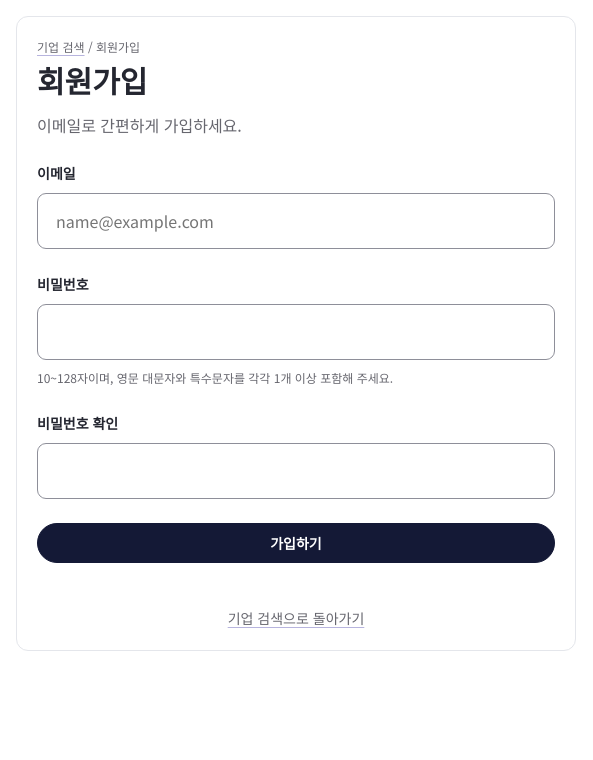
Test: 회원가입 화면 › 연결 실패는 완료로 처리하지 않고 직접 재시도할 수 있다
The width and height of the screenshot is (593, 760).
Type "Member@Example.COM" into the field labelled "이메일" at {"x": 296, "y": 221}, box [37,193,555,249]
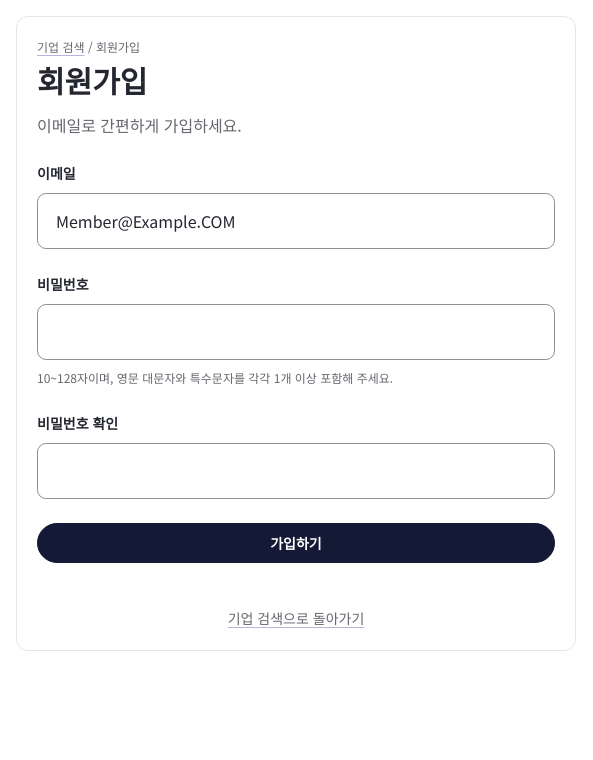
Type "Sample!password" into the password field labelled "비밀번호" at {"x": 296, "y": 332}, box [37,304,555,360]
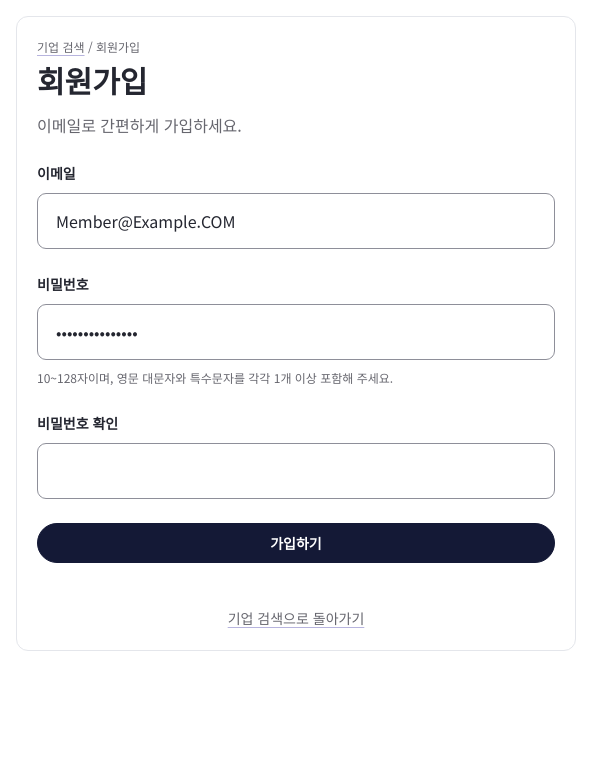
Type "Sample!password" into the password field labelled "비밀번호 확인" at {"x": 296, "y": 471}, box [37,443,555,499]
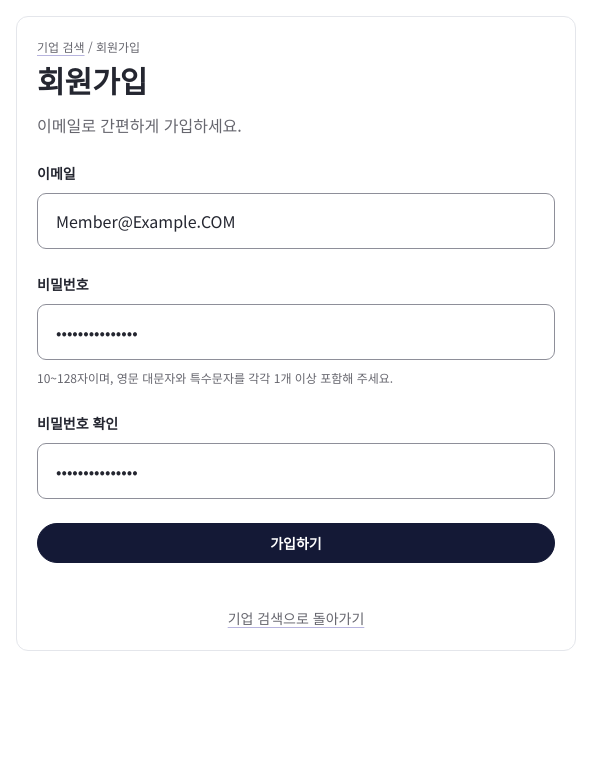
Click the button "가입하기" at {"x": 296, "y": 543}, box [37,523,555,563]
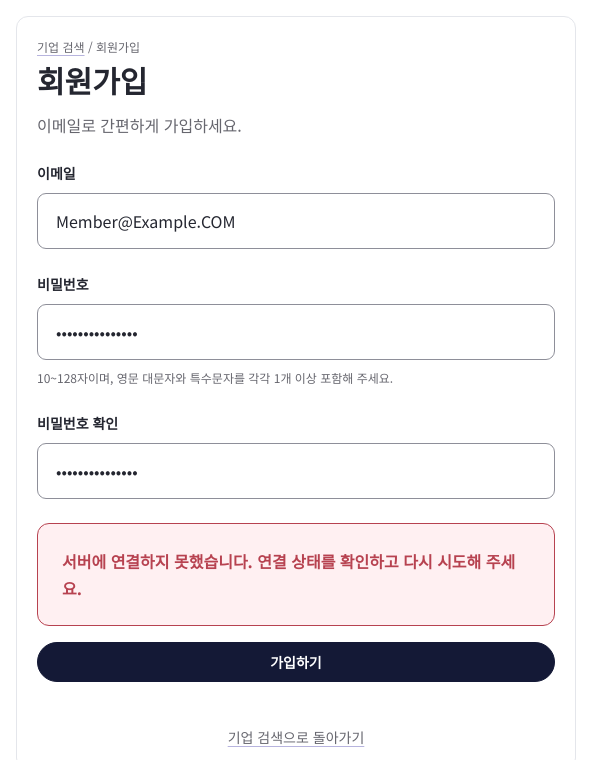
Check: the heading "회원가입이 완료됐어요" is not shown
Check: the message "서버에 연결하지 못했습니다. 연결 상태를 확인하고 다시 시도해 주세요." is shown, box [37,523,555,626]
Click the button "가입하기" at {"x": 296, "y": 662}, box [37,642,555,682]
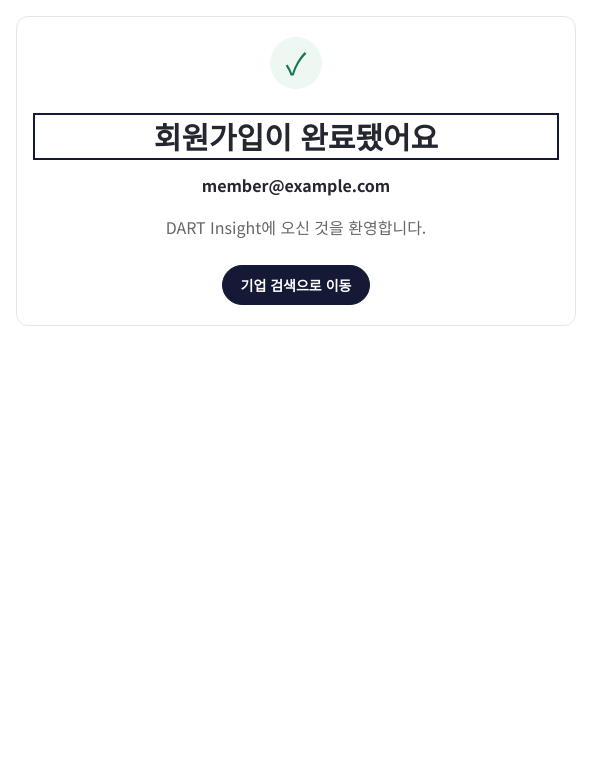
Check: the heading "회원가입이 완료됐어요" is shown, box [154,114,438,158]
